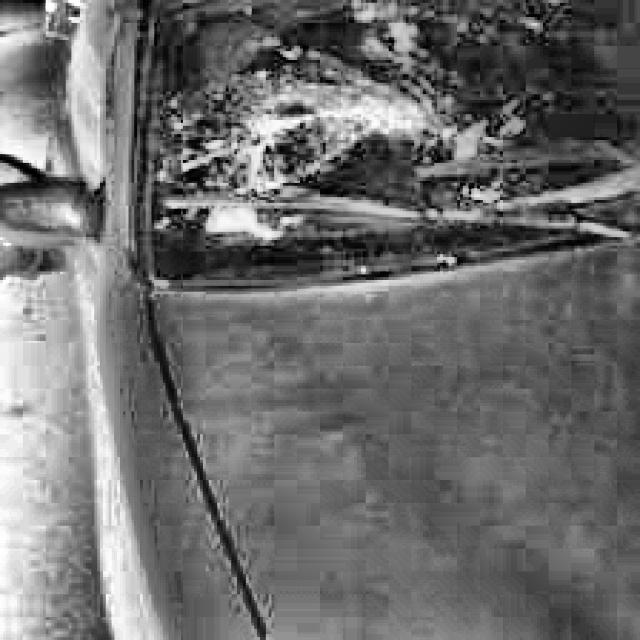glass_shatter: (228, 63, 426, 174)
